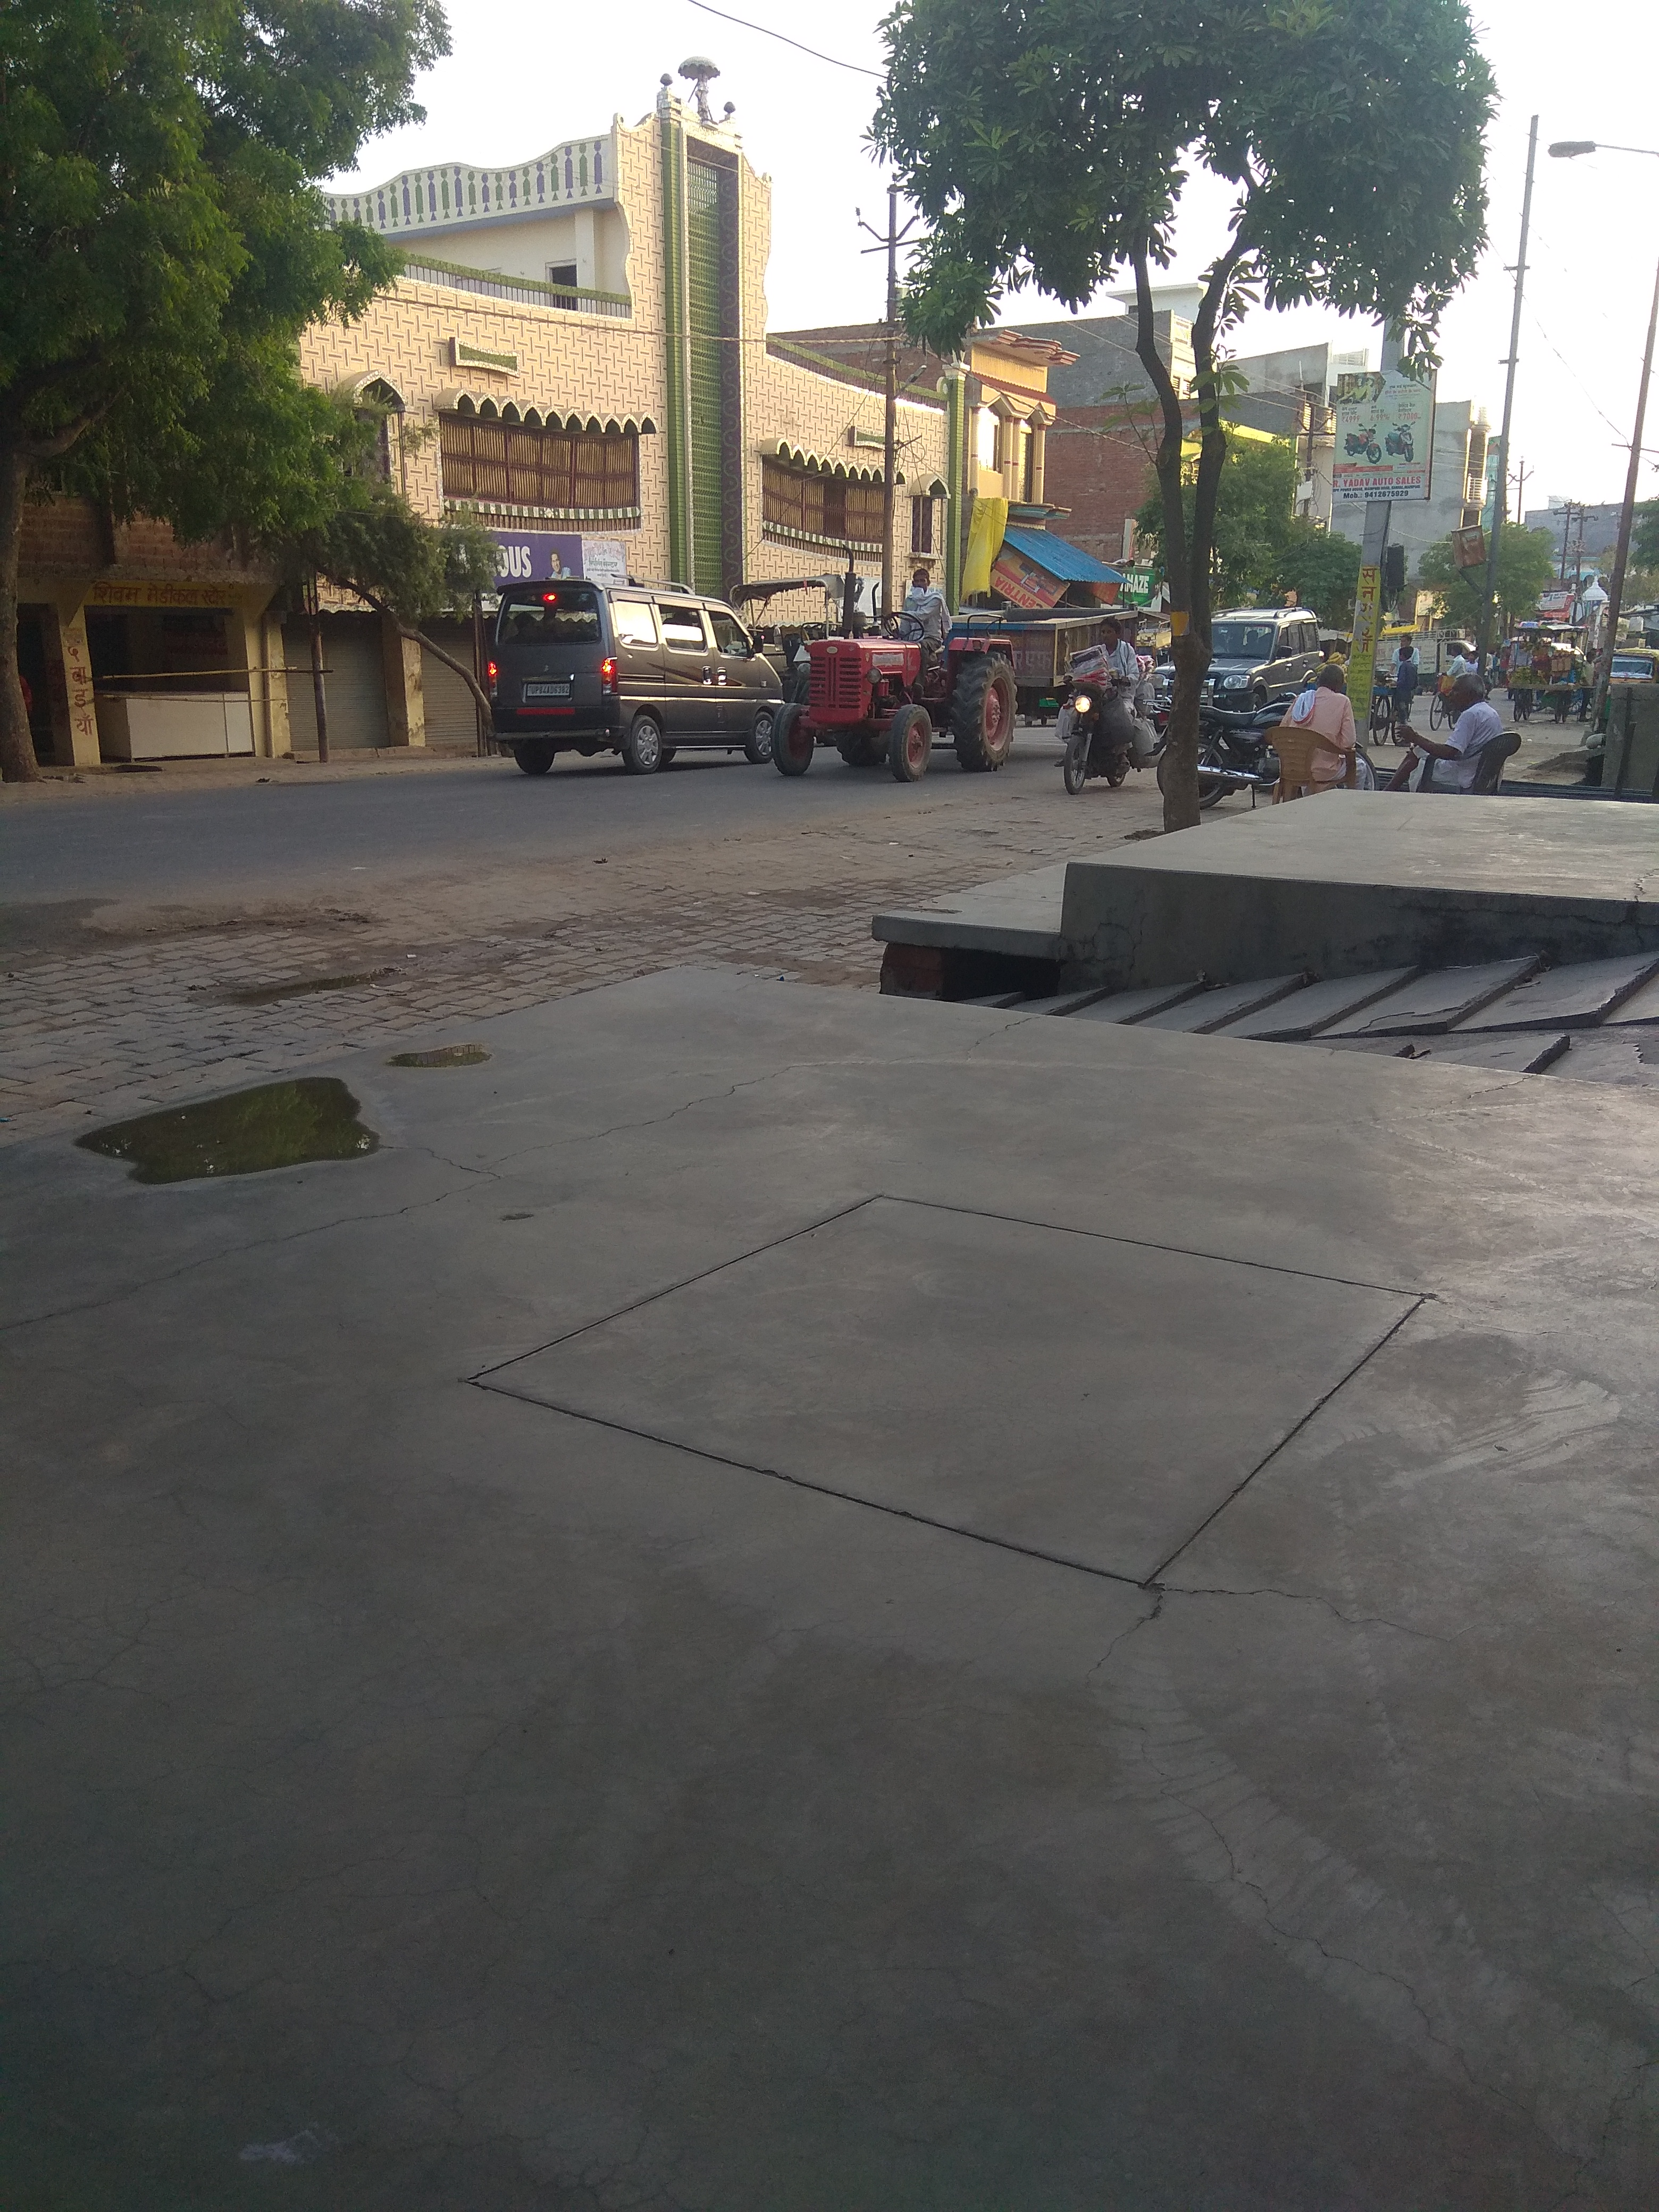tractor: (769, 542, 1140, 786), (723, 571, 884, 747)
